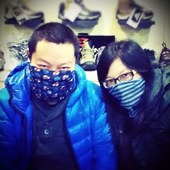face_mask: (30, 42, 74, 104), (104, 60, 137, 102)
